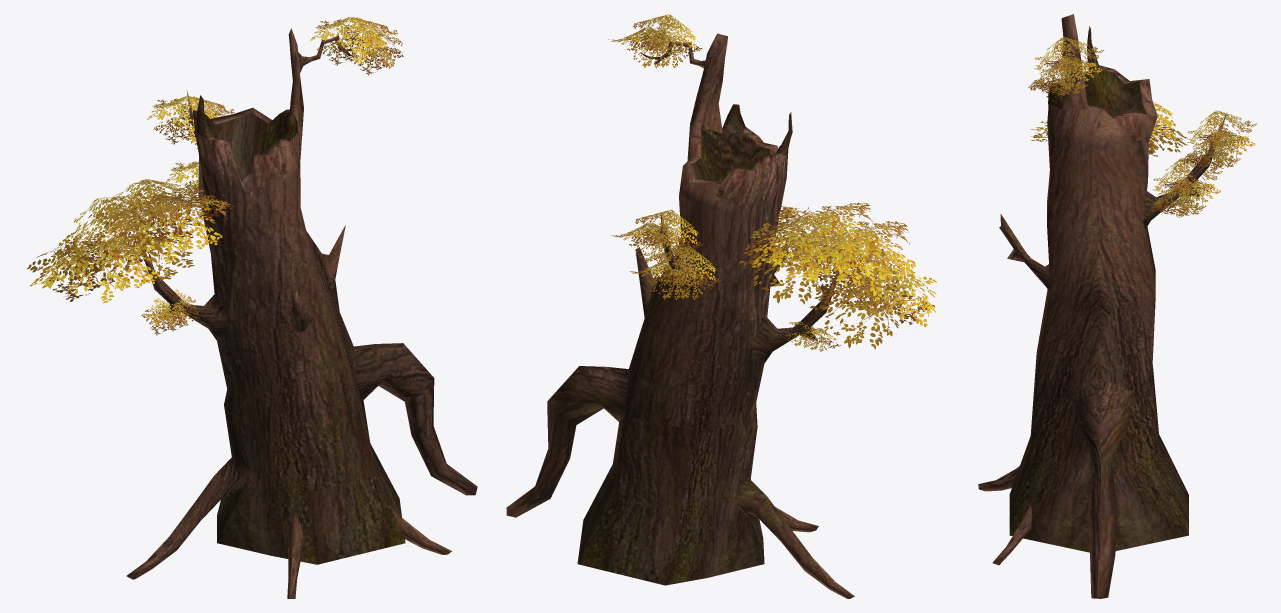
Rendered from wd_zhiwu_05.FBX.
3 views of the same model, side by side, from view 1: azimuth 30°, elevation 25°; view 2: azimuth 150°, elevation 25°; view 3: azimuth 270°, elevation 25° (orthographic). The views are drawn at different scales.
Parts seen in each view (by area): view 1: wd_zhiwu_05; view 2: wd_zhiwu_05; view 3: wd_zhiwu_05.
Part boxes in pixels (x1,y1,x2,y2): wd_zhiwu_05: (27,17,477,598); wd_zhiwu_05: (506,14,936,598); wd_zhiwu_05: (978,14,1256,598).
Bounding box in the file's own units: 891 × 995 × 519.
